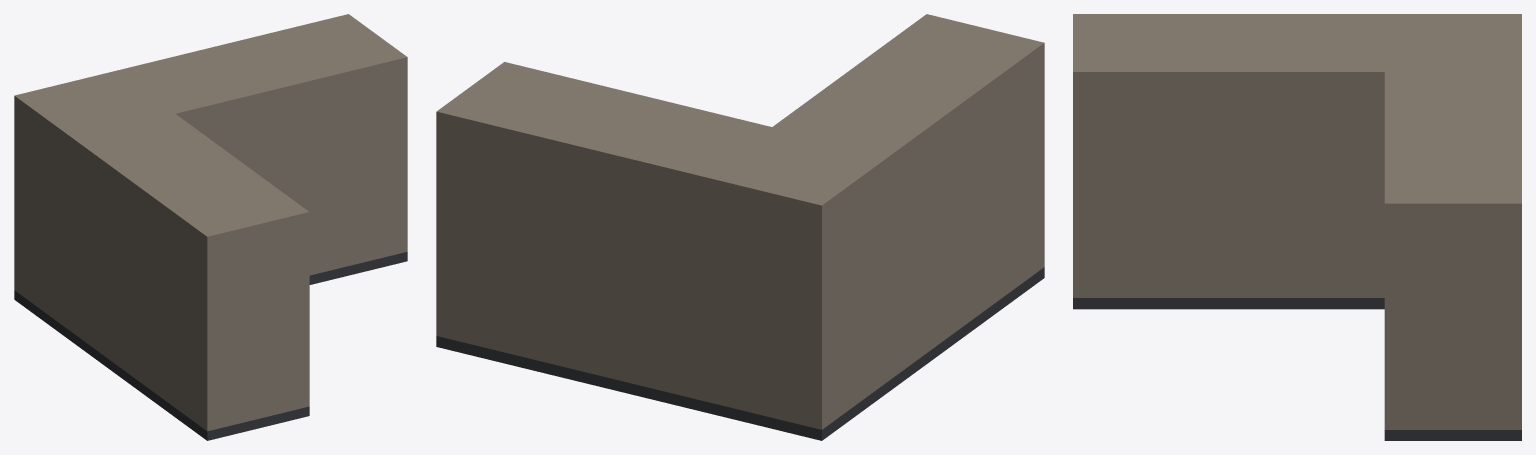
The model's file is banquette_L_corner_72.glb.
3 renders of one model, left to right at view 1: azimuth 30°, elevation 25°; view 2: azimuth 150°, elevation 25°; view 3: azimuth 270°, elevation 25°, orthographic. The views are drawn at different scales.
Size of the model in its own units: 1.83 by 1.07 by 1.83.
